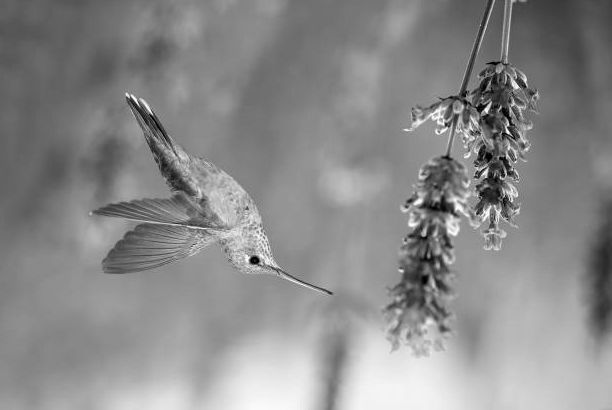Bird: (85, 88, 336, 299)
